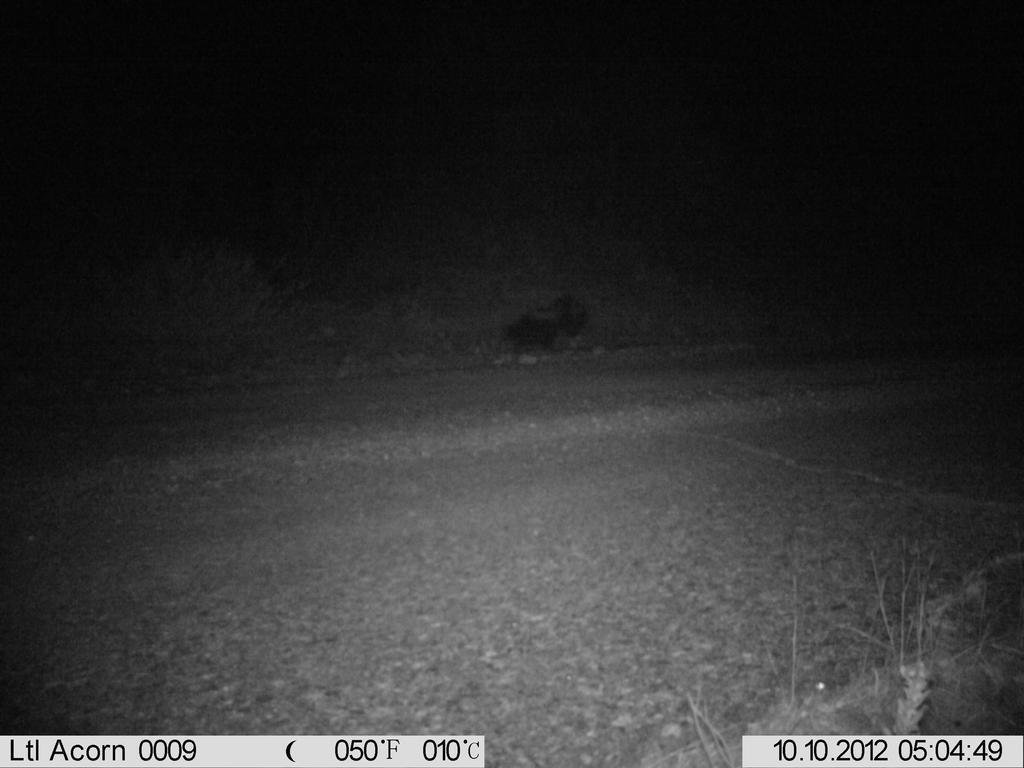skunk: (485, 268, 616, 387)
